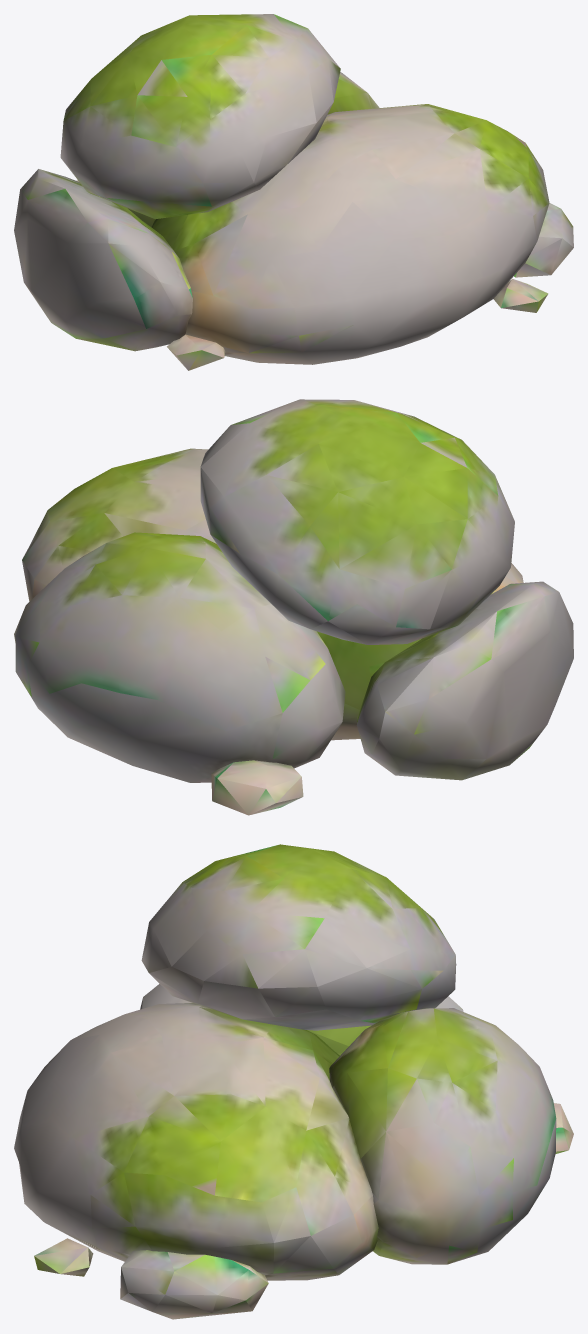
File: roca_rio_0_800.glb
3 views of the same model, one above another, from view 1: azimuth 30°, elevation 25°; view 2: azimuth 150°, elevation 25°; view 3: azimuth 270°, elevation 25° (orthographic). The views are drawn at different scales.
Parts seen in each view (by area): view 1: roca_rio_0_malla; view 2: roca_rio_0_malla; view 3: roca_rio_0_malla.
Boxes of the visible parts, bbox=[...] form: roca_rio_0_malla: bbox=[14, 14, 573, 370]; roca_rio_0_malla: bbox=[14, 399, 573, 815]; roca_rio_0_malla: bbox=[14, 844, 573, 1319].
Bounding box in the file's own units: 0.3398 × 0.2032 × 0.3079.
Materials: 1 (1 with a texture image).
